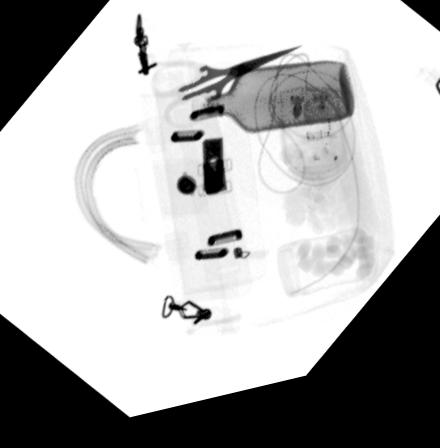Scissors: (149, 57, 303, 140)
